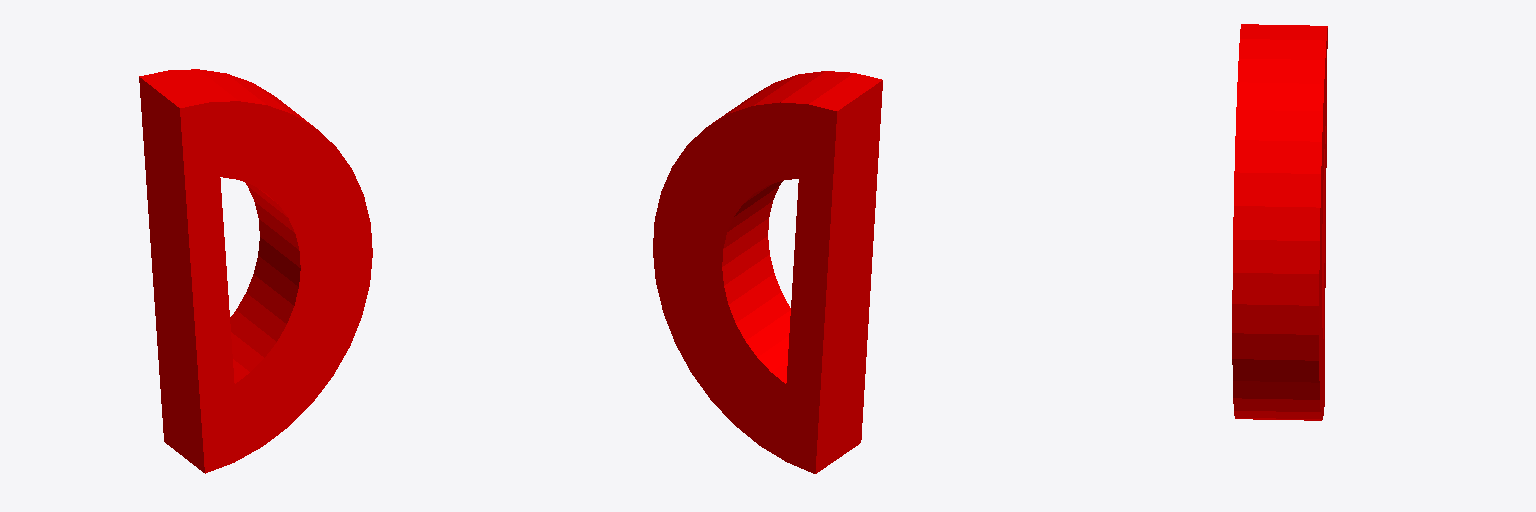
The model's file is letter21.obj.
The picture shows the model from 3 angles: view 1: azimuth 30°, elevation 25°; view 2: azimuth 150°, elevation 25°; view 3: azimuth 270°, elevation 25°; orthographic projection.
Parts seen in each view (by area): view 1: pCylinder1; view 2: pCylinder1; view 3: pCylinder1.
Boxes of the visible parts, x1=… form: pCylinder1: x1=139, y1=69, x2=372, y2=473; pCylinder1: x1=653, y1=71, x2=882, y2=473; pCylinder1: x1=1232, y1=24, x2=1327, y2=420.
Size of the model in its own units: 1.08 by 2 by 0.4664.